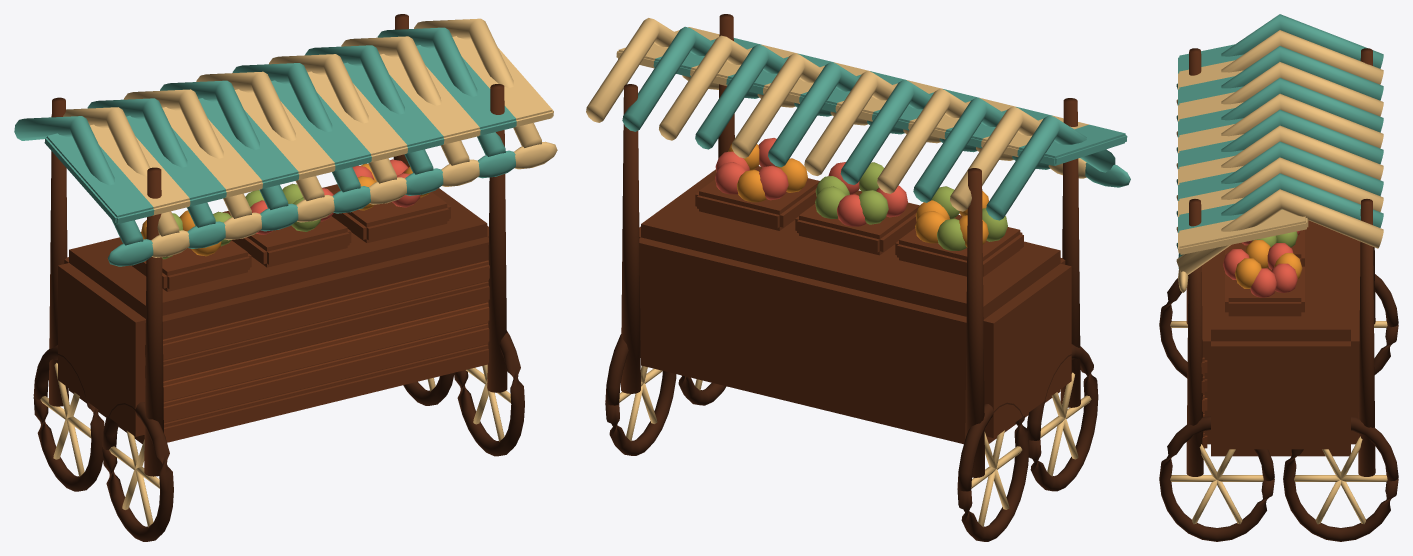
The model's file is village-cart.glb.
3 views of the same model, side by side, from view 1: azimuth 30°, elevation 25°; view 2: azimuth 150°, elevation 25°; view 3: azimuth 270°, elevation 25° (orthographic). The views are drawn at different scales.
Visible parts, largest first — view 1: village-cart; view 2: village-cart; view 3: village-cart.
Boxes of the visible parts, x1,y1,x2,y2 form: village-cart: (14, 14, 557, 541); village-cart: (586, 14, 1130, 541); village-cart: (1159, 14, 1398, 541).
Bounding box in the file's own units: 2.45 × 2.1 × 1.26.
